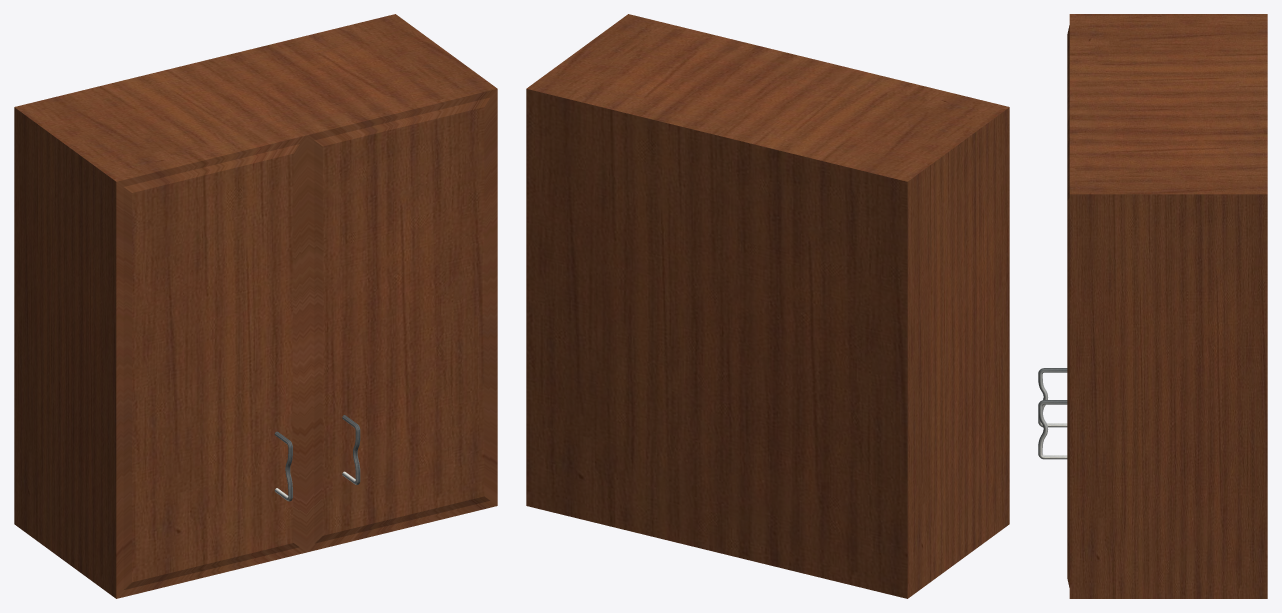
The model's file is Drawer.fbx.
The picture shows the model from 3 angles, left to right: view 1: azimuth 30°, elevation 25°; view 2: azimuth 150°, elevation 25°; view 3: azimuth 270°, elevation 25°; orthographic projection. The views are drawn at different scales.
Visible parts, largest first — view 1: Drawer2; view 2: Drawer2; view 3: Drawer2, Handle14, Handle13.
Boxes of the visible parts, x1,y1,x2,y2 form: Drawer2: (14,14,497,598); Drawer2: (526,14,1009,598); Drawer2: (1067,14,1267,598); Handle14: (1038,400,1067,459); Handle13: (1038,368,1067,427).
Size of the model in its own units: 27.05 by 28.27 by 14.54.
Materials: 2 (2 with a texture image).
